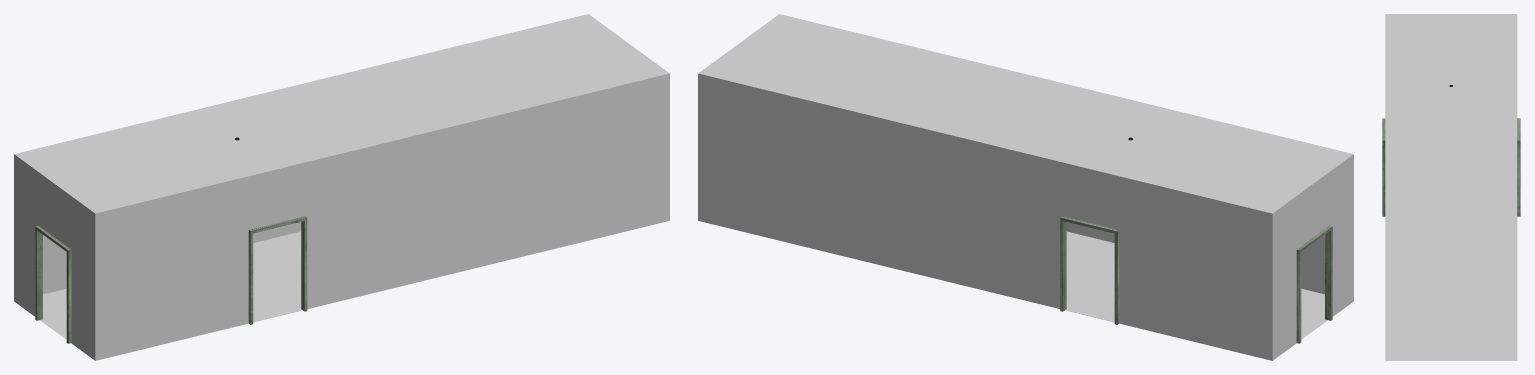
File: Corridor.fbx
3 renders of one model, left to right at view 1: azimuth 30°, elevation 25°; view 2: azimuth 150°, elevation 25°; view 3: azimuth 270°, elevation 25°, orthographic. The views are drawn at different scales.
Parts seen in each view (by area): view 1: Cube, Cube.001, Cube.003; view 2: Cube, Cube.002, Cube.003; view 3: Cube, Cube.001, Cube.002.
Boxes of the visible parts, bbox=[...] form: Cube: bbox=[14, 14, 669, 360]; Cube.001: bbox=[248, 216, 307, 324]; Cube.003: bbox=[35, 225, 71, 343]; Cube: bbox=[698, 14, 1353, 360]; Cube.002: bbox=[1060, 216, 1119, 324]; Cube.003: bbox=[1296, 225, 1332, 343]; Cube: bbox=[1385, 14, 1517, 360]; Cube.001: bbox=[1382, 118, 1385, 216]; Cube.002: bbox=[1517, 118, 1520, 216].
Size of the model in its own units: 8.2 by 2.01 by 2.1.
